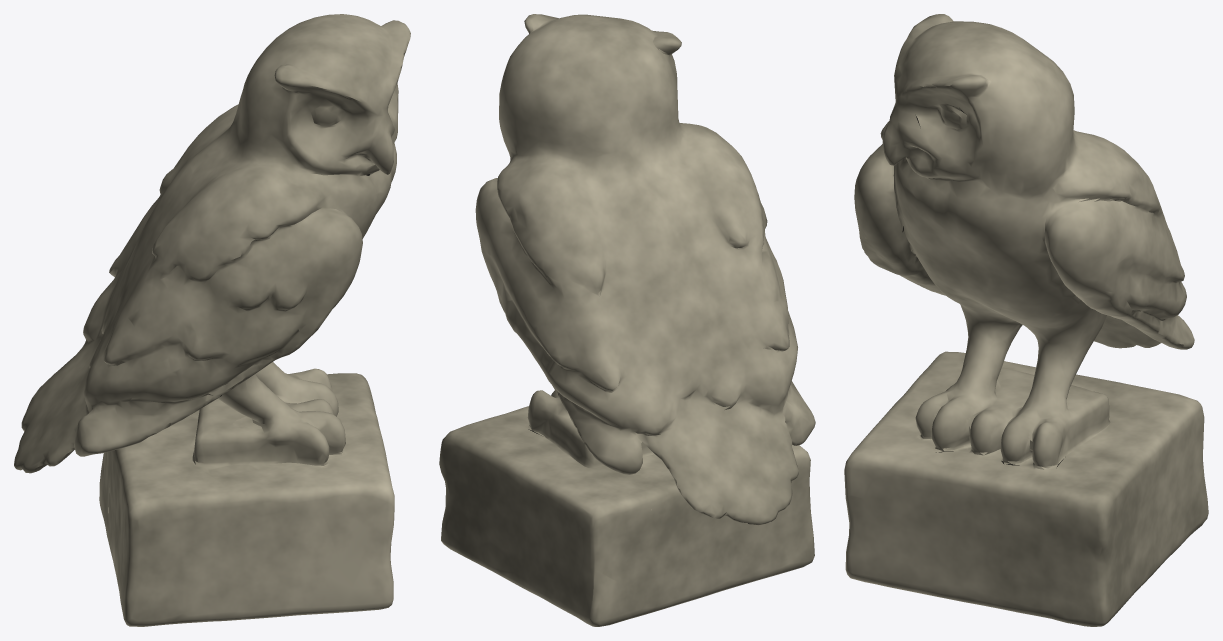
File: owl-statue-v001.glb
The picture shows the model from 3 angles, left to right: view 1: azimuth 30°, elevation 25°; view 2: azimuth 150°, elevation 25°; view 3: azimuth 270°, elevation 25°; orthographic projection. The views are drawn at different scales.
Parts seen in each view (by area): view 1: owl-statue; view 2: owl-statue; view 3: owl-statue.
Part boxes in pixels (x1,y1,x2,y2): owl-statue: [14, 14, 410, 626]; owl-statue: [439, 14, 815, 626]; owl-statue: [844, 14, 1208, 626].
Size of the model in its own units: 0.3473 by 0.5 by 0.3003.
1 material, 1 textured.
